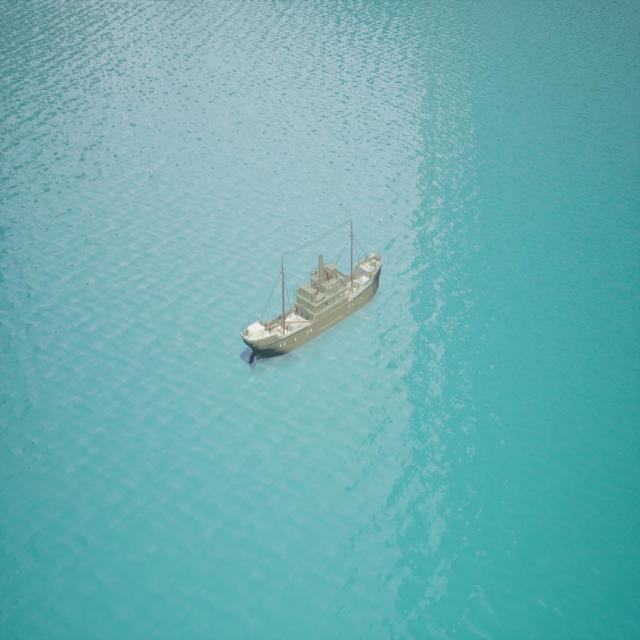fishing ship: (242, 251, 385, 363)
